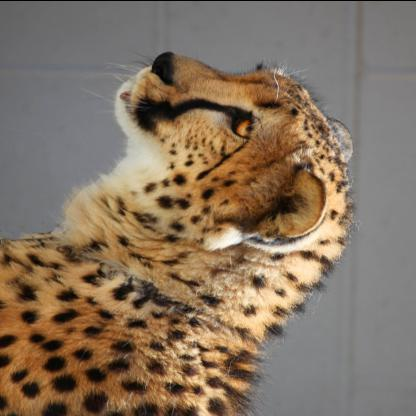leopard: (106, 47, 356, 254)
